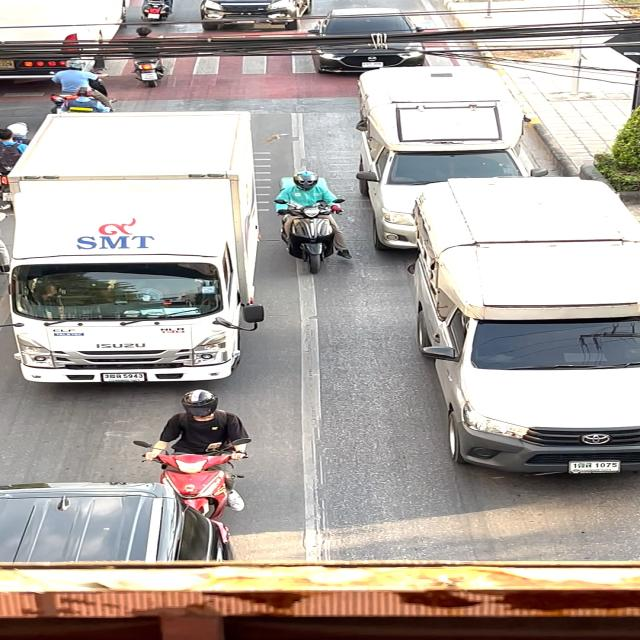car: (0, 100, 279, 388), (404, 167, 640, 477), (346, 63, 582, 249), (0, 474, 241, 570), (313, 2, 432, 72), (189, 0, 319, 33)
